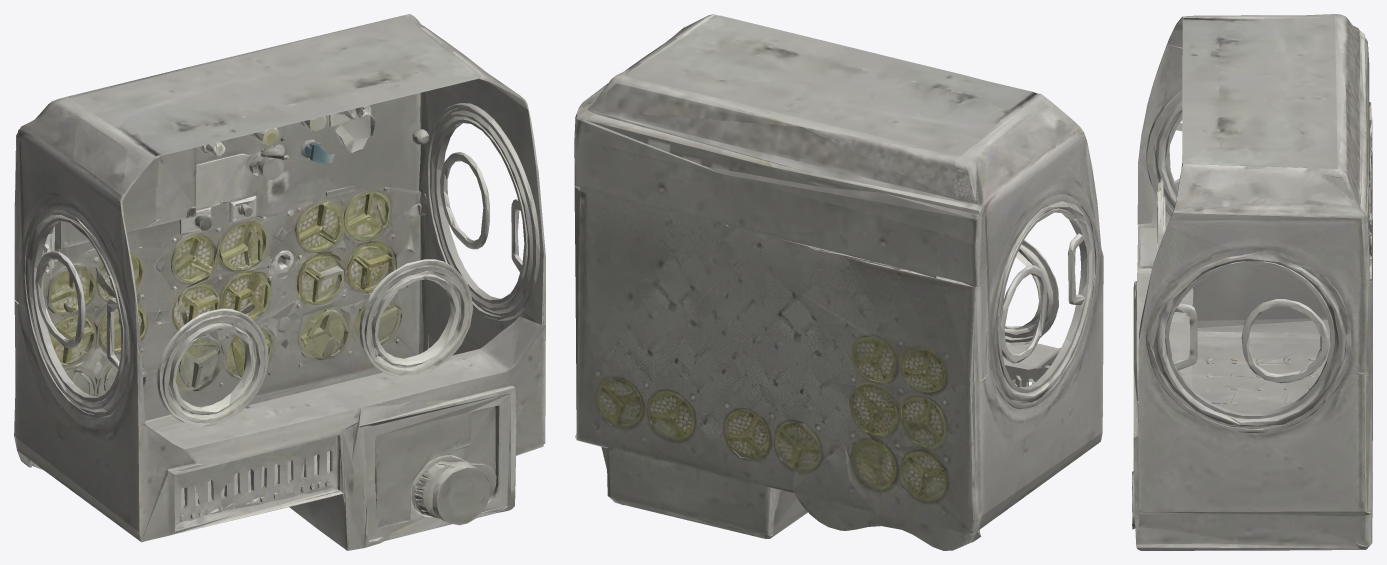
Rendered from msg.glb.
The picture shows the model from 3 angles, left to right: view 1: azimuth 30°, elevation 25°; view 2: azimuth 150°, elevation 25°; view 3: azimuth 270°, elevation 25°; orthographic projection. The views are drawn at different scales.
Visible parts, largest first — view 1: msg; view 2: msg; view 3: msg.
Part boxes in pixels (<box>): msg: <box>14,14,545,550</box>; msg: <box>574,14,1103,550</box>; msg: <box>1132,14,1372,550</box>.
Size of the model in its own units: 1 by 0.9727 by 0.5511.
Materials: 1 (1 with a texture image).
